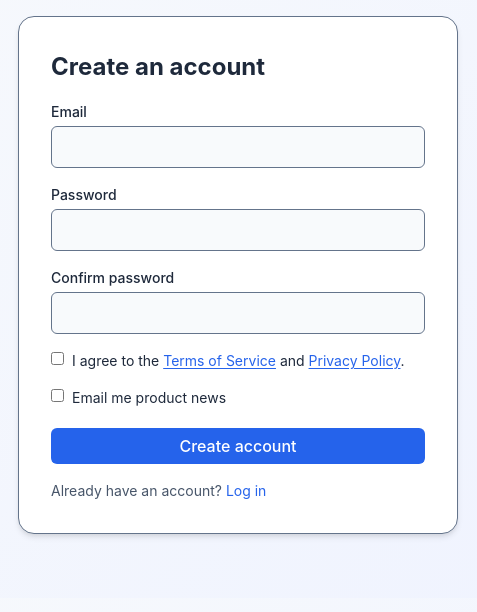
RegisterPage › shows the generic message for an unexpected server failure
Step 1. Type "reader@example.com" into the field labelled "Email" → (238, 147), box [51, 126, 425, 168]
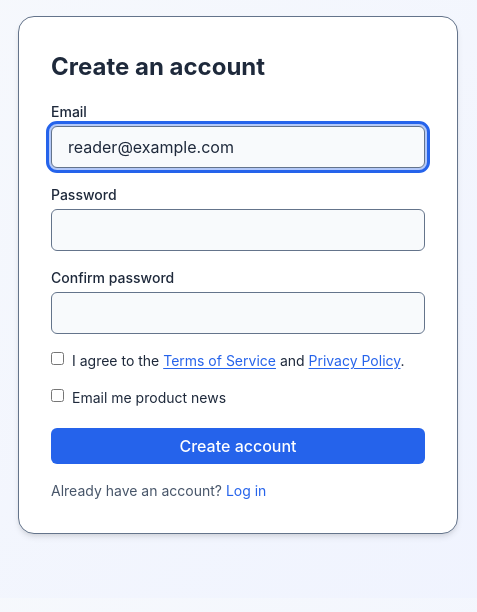
Step 2. Type "pw-12345" into the password field labelled "Password" → (238, 230), box [51, 209, 425, 251]
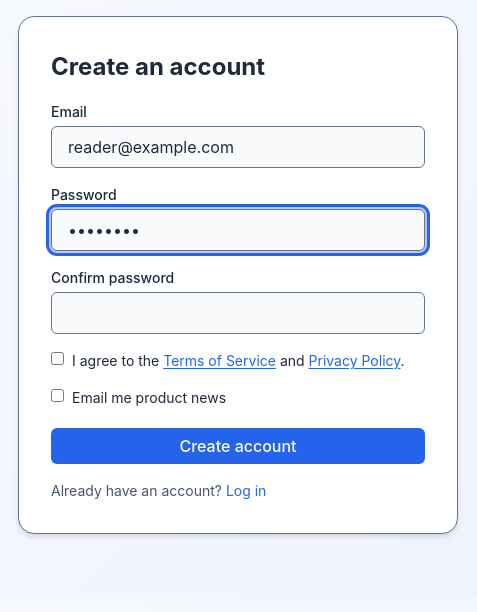
Step 3. Type "pw-12345" into the password field labelled "Confirm password" → (238, 313), box [51, 292, 425, 334]
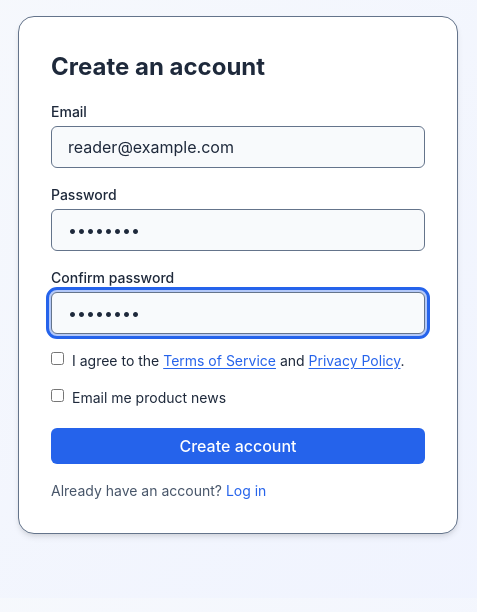
Step 4. Click the checkbox labelled "I agree to the Terms of Service and Privacy Policy ." → (58, 358), box [51, 352, 64, 365]
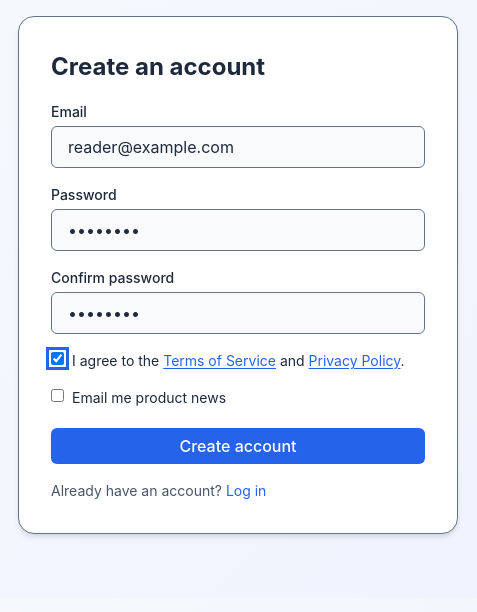
Step 5. Click the button "Create account" → (238, 446), box [51, 428, 425, 464]
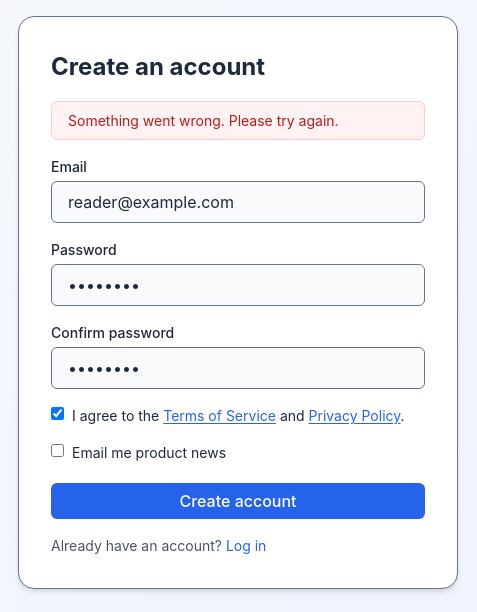
expect the message reads "Something went wrong. Please try again.": met, box [68, 112, 339, 129]
